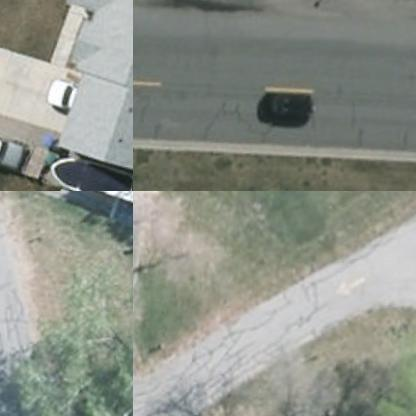boat: (39, 138, 132, 190)
car: (40, 71, 118, 125), (258, 84, 318, 122), (0, 120, 39, 178)
